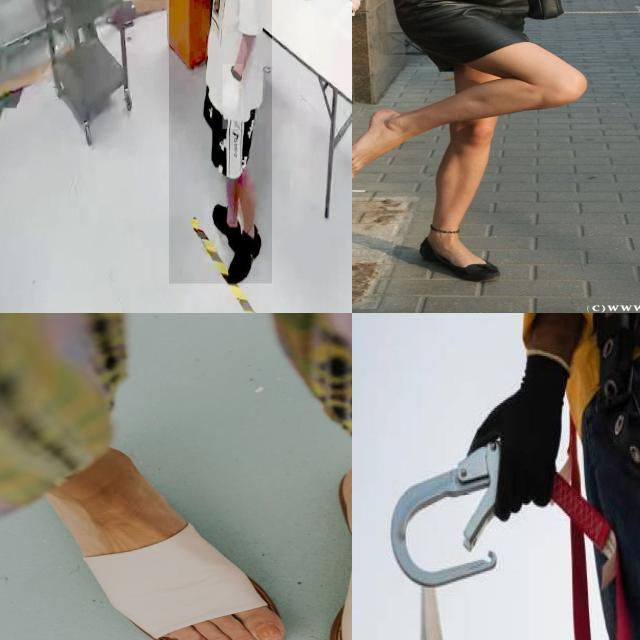Barefoots: (352, 110, 397, 180)
Harness: (391, 445, 500, 640), (555, 442, 632, 640)
Sandals: (1, 463, 290, 640)
hand_glove: (222, 64, 244, 130)
person: (169, 0, 272, 284)
shoes: (223, 210, 266, 290), (209, 194, 241, 247)
